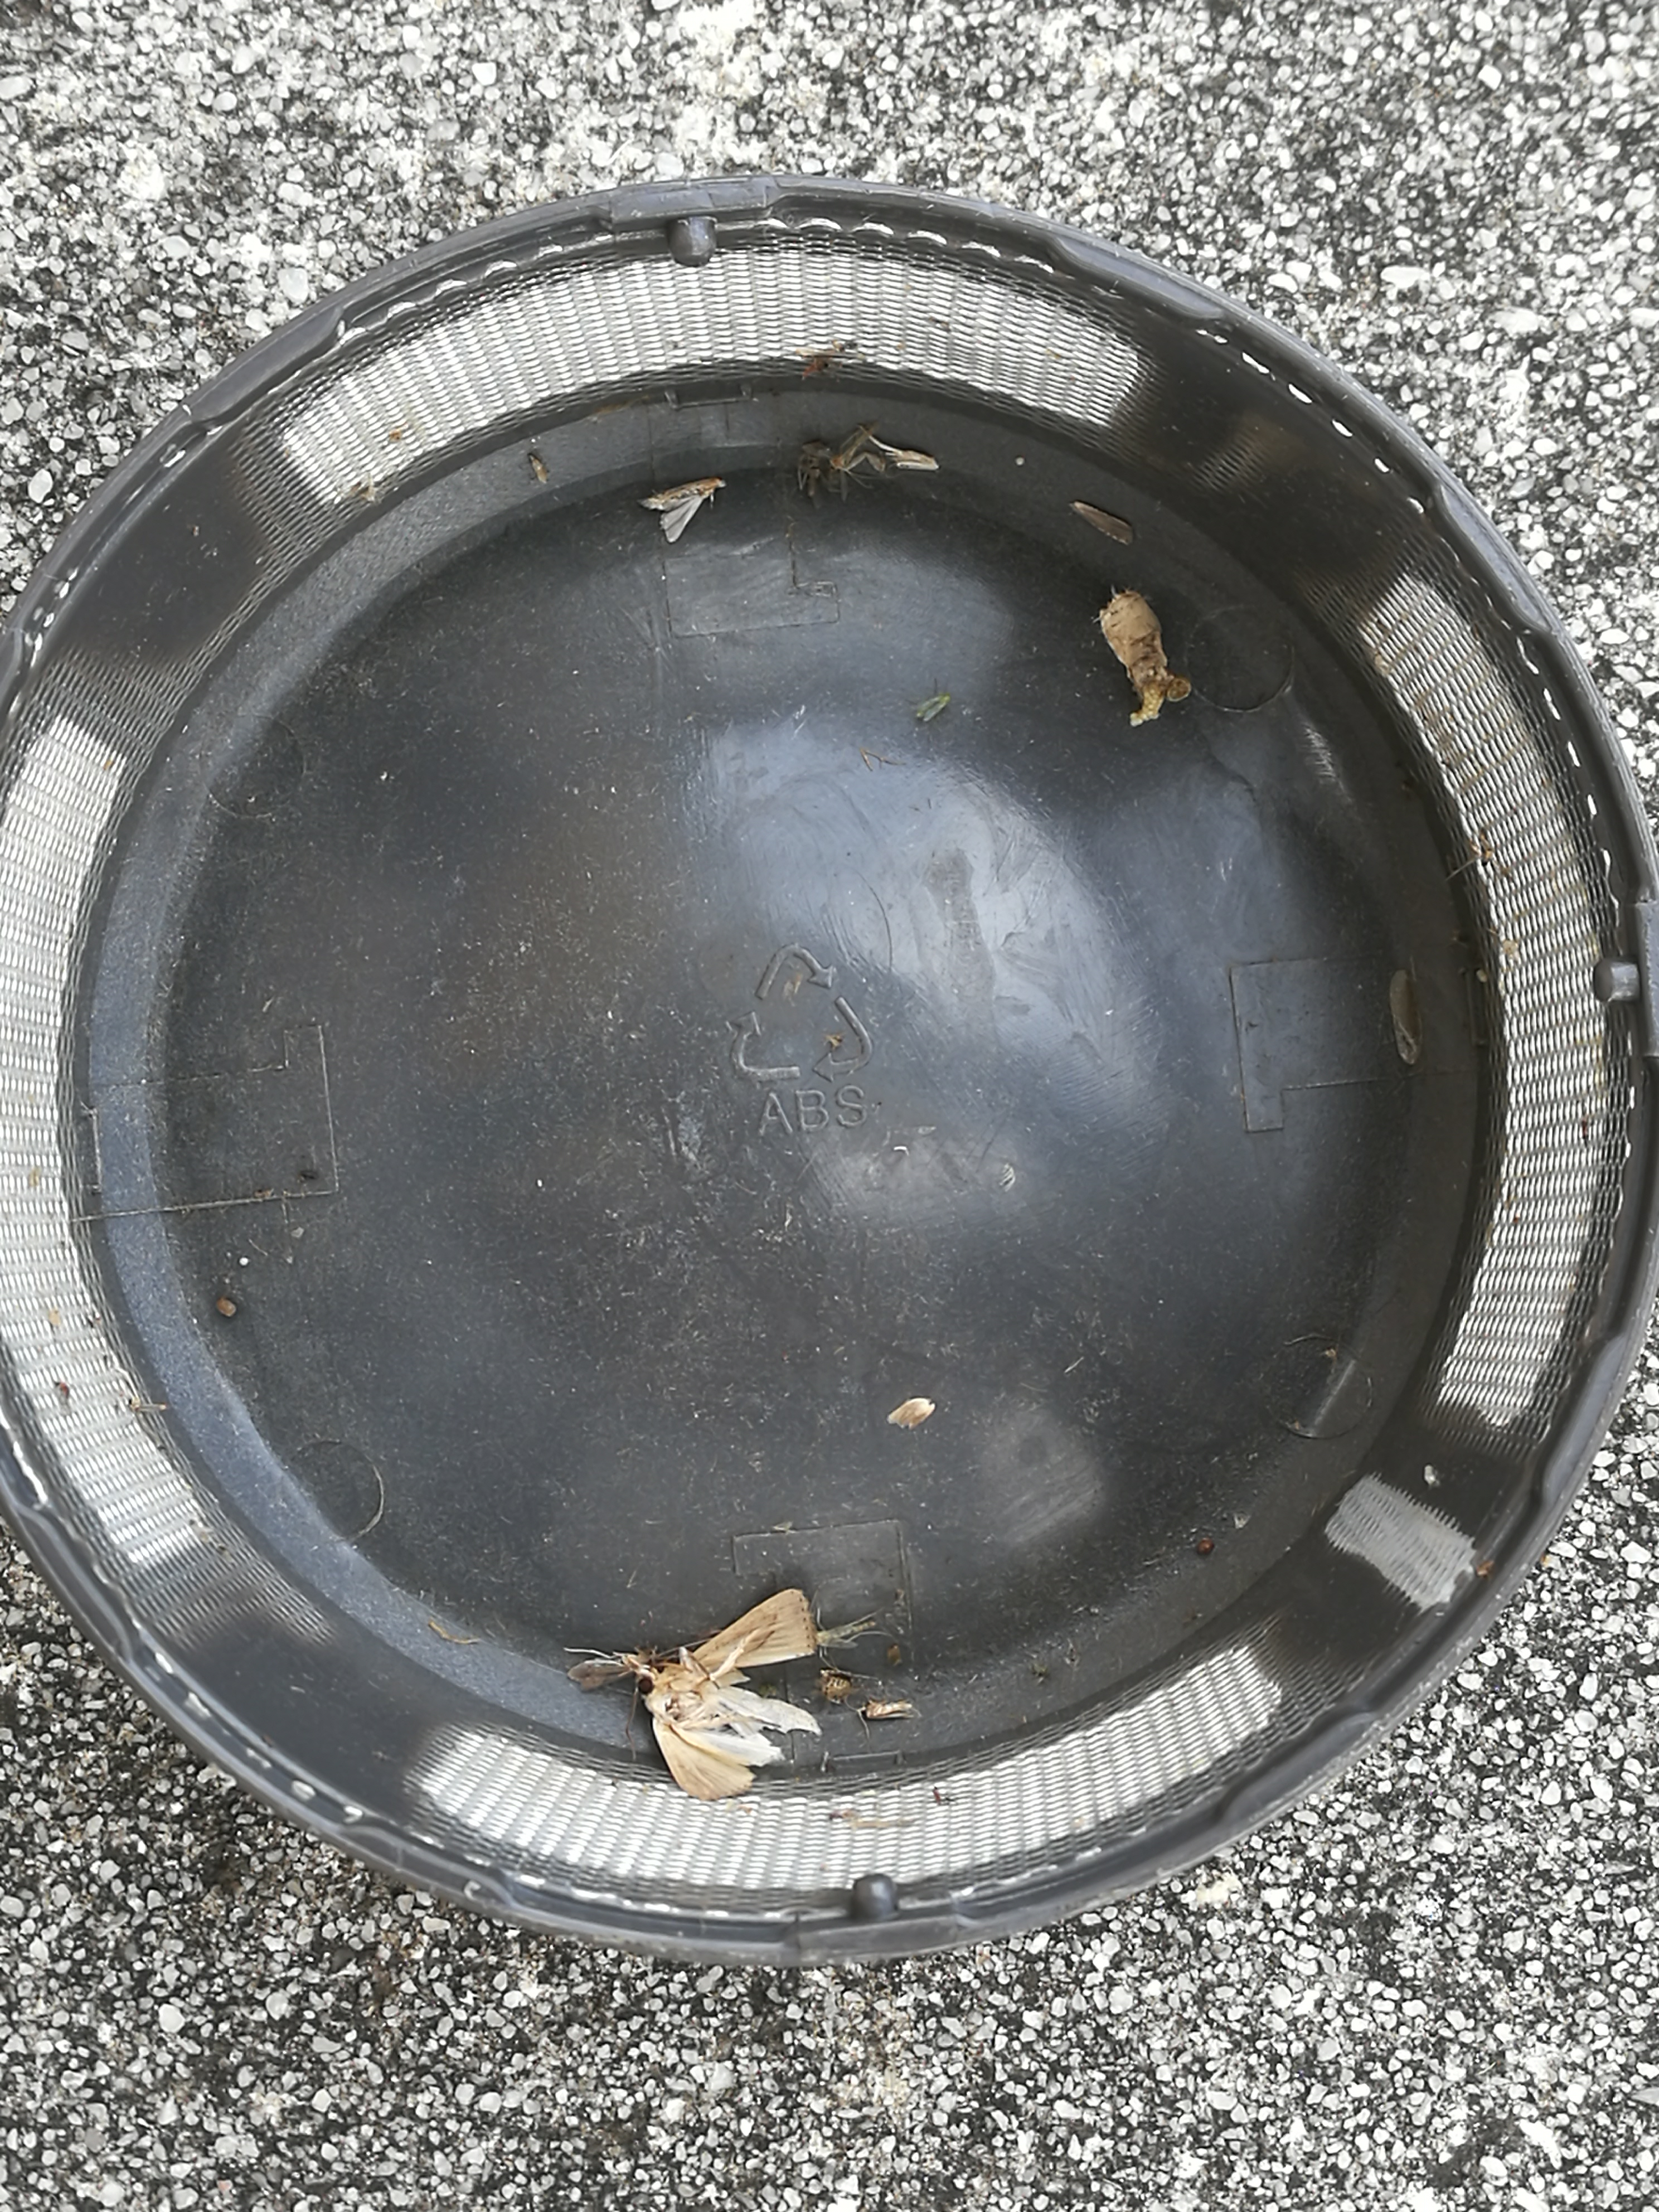mosquito: (566, 1651, 648, 1691), (816, 1623, 859, 1648), (859, 1702, 917, 1719)
moth: (636, 1588, 816, 1799), (636, 479, 725, 540)
